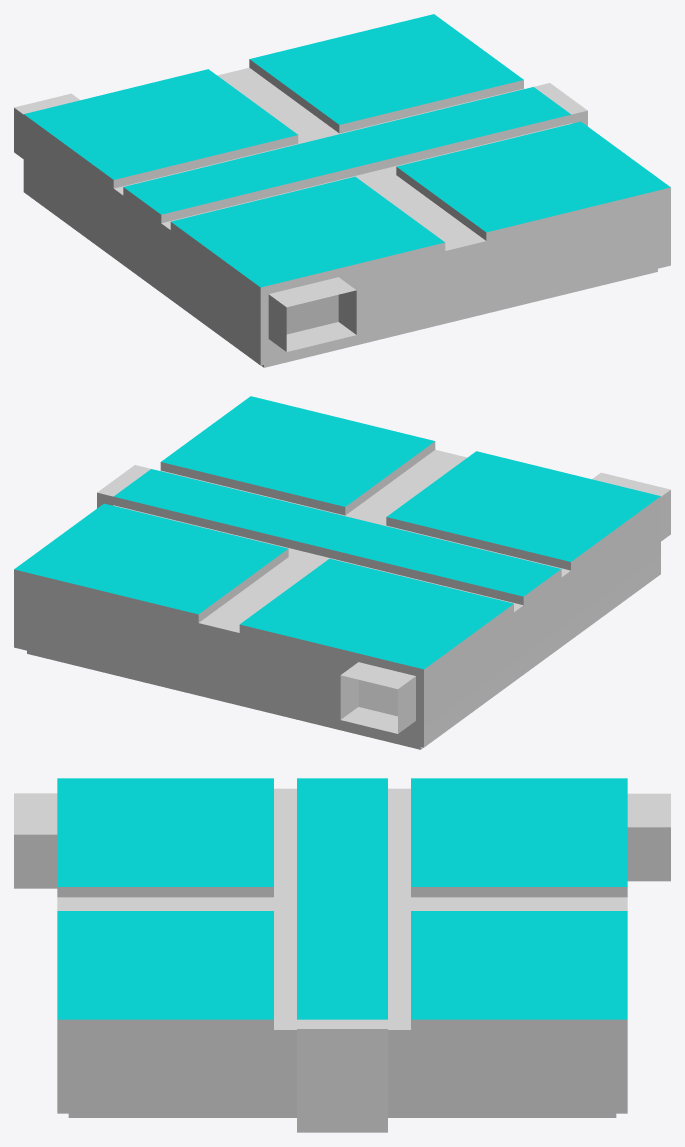
File: BatteryDefenceNEW.fbx
3 renders of one model, top to bottom at view 1: azimuth 30°, elevation 25°; view 2: azimuth 150°, elevation 25°; view 3: azimuth 270°, elevation 25°, orthographic. The views are drawn at different scales.
Visible parts, largest first — view 1: Walls_CeilingBeams, Window2, Window3, Window1, Window4, Window5, Floor; view 2: Walls_CeilingBeams, Window2, Window1, Window3, Window4, Window5, Floor; view 3: Walls_CeilingBeams, Window1, Window2, Window3, Window4, Window5, Floor.
Part boxes in pixels (left/top/right/bottom): Walls_CeilingBeams: left=14, top=59, right=670, bottom=367; Window2: left=171, top=176, right=444, bottom=287; Window3: left=24, top=69, right=297, bottom=179; Window1: left=396, top=121, right=670, bottom=232; Window4: left=250, top=14, right=523, bottom=124; Window5: left=124, top=87, right=570, bottom=214; Floor: left=286, top=294, right=338, bottom=334; Walls_CeilingBeams: left=14, top=441, right=670, bottom=749; Window2: left=387, top=451, right=660, bottom=561; Window1: left=161, top=396, right=434, bottom=506; Window3: left=240, top=558, right=513, bottom=669; Window4: left=14, top=503, right=287, bottom=614; Window5: left=114, top=469, right=560, bottom=596; Floor: left=358, top=680, right=397, bottom=716; Walls_CeilingBeams: left=14, top=788, right=670, bottom=1117; Window1: left=57, top=911, right=273, bottom=1019; Window2: left=57, top=778, right=273, bottom=886; Window3: left=411, top=778, right=627, bottom=886; Window4: left=411, top=911, right=627, bottom=1019; Window5: left=297, top=778, right=387, bottom=1019; Floor: left=297, top=1029, right=387, bottom=1132.
Bounding box in the file's own units: 26 × 5 × 28.8.
